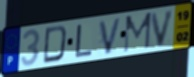3: (20, 28, 42, 68)
D: (42, 24, 69, 65)
L: (74, 23, 94, 59)
M: (122, 11, 153, 55)
V: (98, 16, 124, 57), (150, 8, 176, 49)
